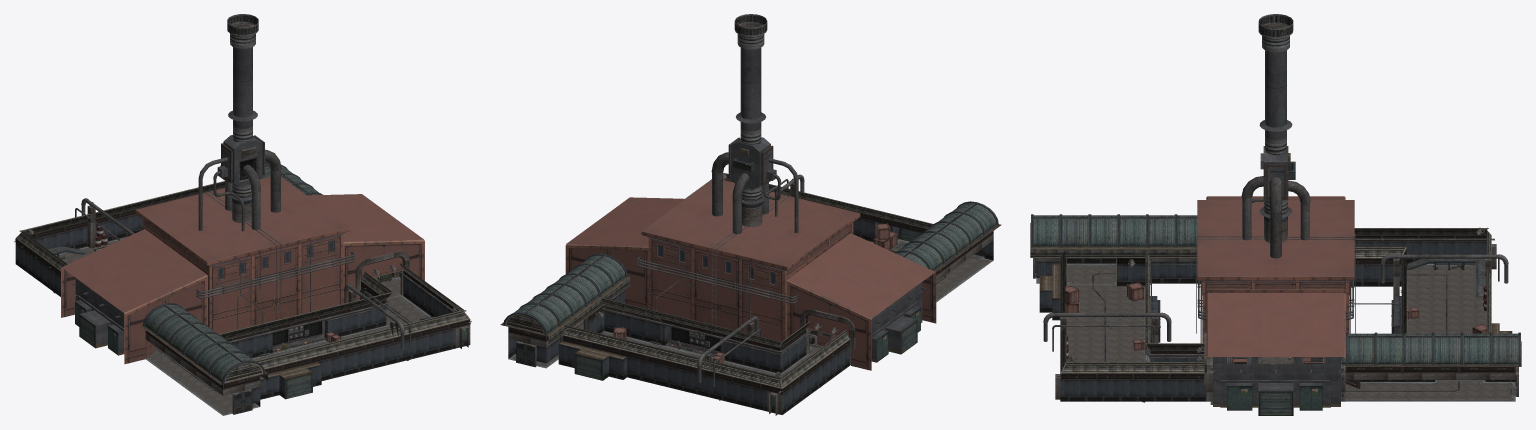
Rendered from AqualabResearchHub.fbx.
3 views of the same model, side by side, from view 1: azimuth 30°, elevation 25°; view 2: azimuth 150°, elevation 25°; view 3: azimuth 270°, elevation 25° (orthographic). The views are drawn at different scales.
Visible parts, largest first — view 1: Room3, Room2, Chimney, Room4, Room1, walls2, detail2, fence2, pipes1, walls1, fence1, GroundFrame4 (+7 smaller); view 2: Room3, Room2, Chimney, Room5, walls1, detail1, Room1, Room4, fence1, pipes3, GroundFrame3, fence2 (+4 smaller); view 3: Room1, Room3, Room5, Room4, Chimney, GroundPiece2, GroundPiece4, walls2, fence2, detail2, GroundPiece3, fence1 (+9 smaller).
Part boxes in pixels (box(x1,y1,x2,y2)): Room3: box(135, 177, 350, 333); Room2: box(61, 229, 207, 364); Chimney: box(198, 14, 281, 231); Room4: box(140, 303, 267, 415); Room1: box(307, 194, 424, 303); walls2: box(231, 276, 466, 394); detail2: box(225, 270, 470, 399); fence2: box(219, 263, 469, 368); pipes1: box(196, 221, 471, 352); walls1: box(15, 214, 142, 291); fence1: box(16, 181, 224, 270); GroundFrame4: box(251, 290, 470, 399); Room3: box(641, 180, 860, 341); Room2: box(786, 233, 936, 370); Chimney: box(711, 14, 798, 234); Room5: box(500, 253, 630, 368); walls1: box(558, 310, 850, 409); detail1: box(558, 304, 850, 414); Room1: box(565, 197, 685, 308); Room4: box(895, 201, 1001, 302); fence1: box(562, 298, 849, 388); pipes3: box(602, 225, 848, 393); GroundFrame3: box(574, 322, 820, 415); fence2: box(685, 172, 933, 252); Room1: box(1204, 292, 1345, 415); Room3: box(1197, 200, 1354, 343); Room5: box(1341, 332, 1521, 401); Room4: box(1030, 214, 1200, 285); Chimney: box(1241, 14, 1310, 258); GroundPiece2: box(1065, 285, 1144, 361); GroundPiece4: box(1406, 266, 1485, 333); walls2: box(1039, 264, 1206, 396); fence2: box(1060, 250, 1204, 373); detail2: box(1039, 258, 1206, 401); GroundPiece3: box(1345, 381, 1510, 399); fence1: box(1354, 228, 1491, 333).
Bounding box in the file's own units: 66 × 57.75 × 82.24.
